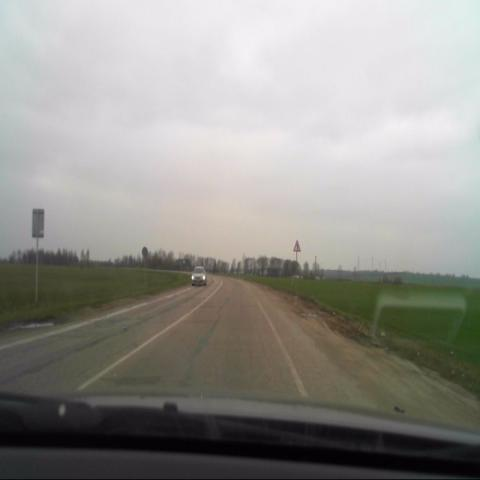1_11_1: (294, 237, 302, 253)
